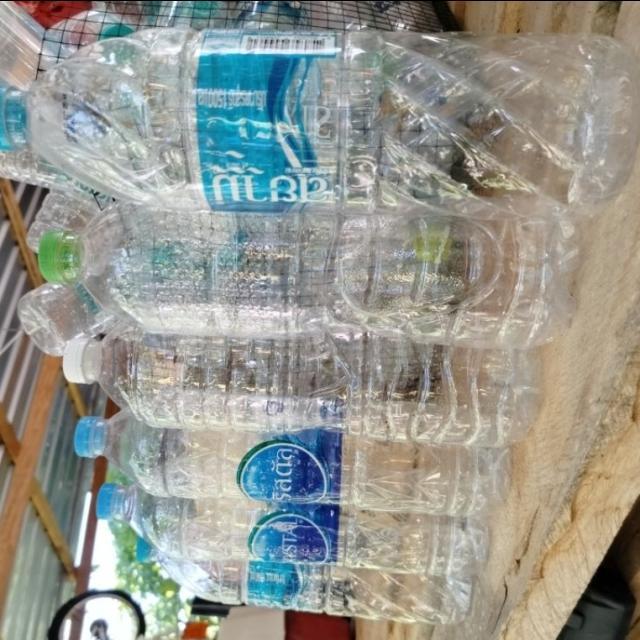plastik: (0, 26, 640, 218), (40, 202, 579, 348), (63, 331, 541, 445), (75, 410, 510, 516), (96, 483, 488, 576), (137, 540, 472, 624)
